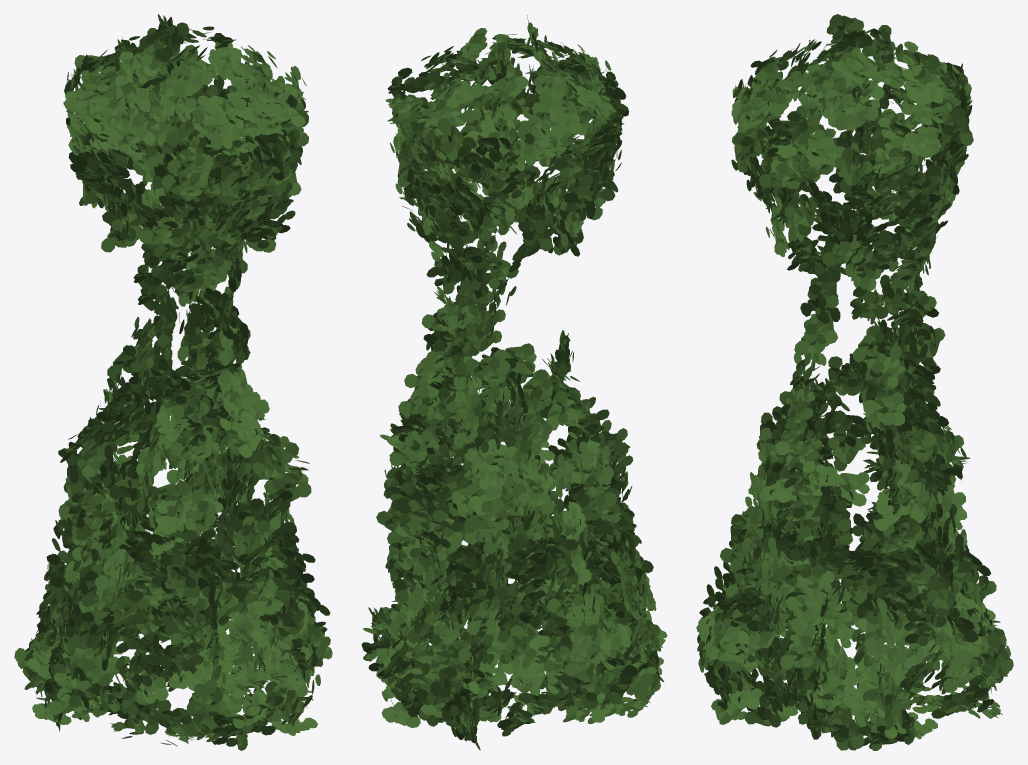
The model's file is ivy_colonne.fbx.
3 views of the same model, side by side, from view 1: azimuth 30°, elevation 25°; view 2: azimuth 150°, elevation 25°; view 3: azimuth 270°, elevation 25° (orthographic). The views are drawn at different scales.
Visible parts, largest first — view 1: Plane; view 2: Plane; view 3: Plane.
Part boxes in pixels (bbox=[...]): Plane: bbox=[14, 14, 332, 750]; Plane: bbox=[361, 15, 667, 750]; Plane: bbox=[696, 14, 1013, 750].
Size of the model in its own units: 238 by 558 by 235.
